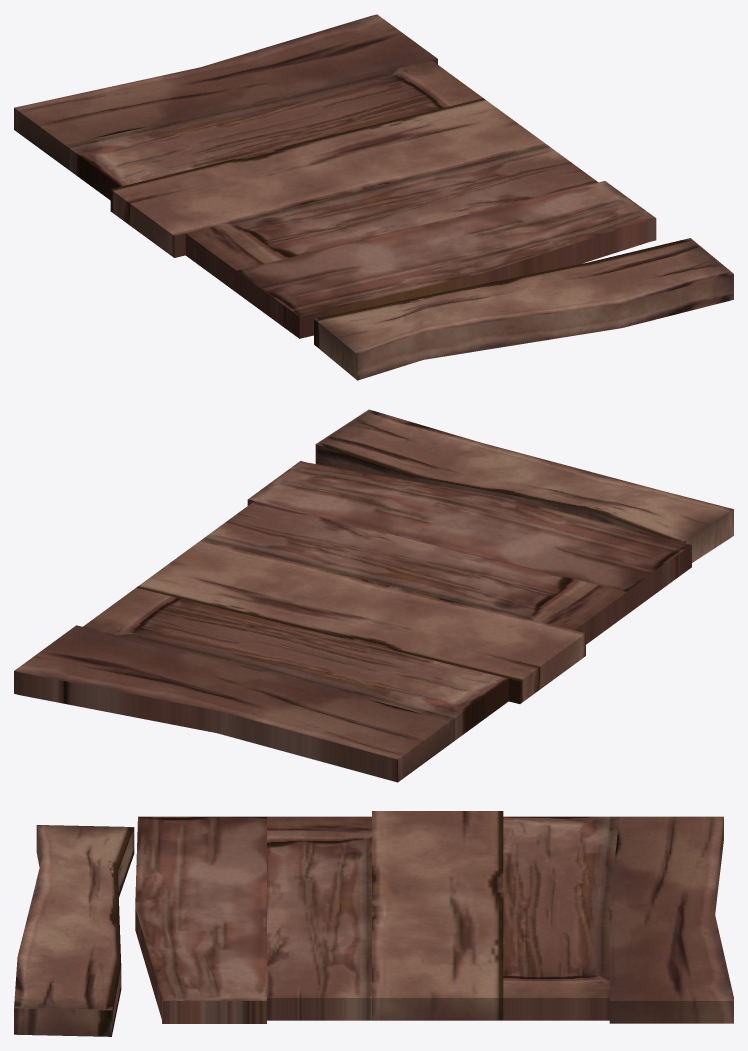
The model's file is ripasPassarela.fbx.
3 renders of one model, top to bottom at view 1: azimuth 30°, elevation 25°; view 2: azimuth 150°, elevation 25°; view 3: azimuth 270°, elevation 25°, orthographic. The views are drawn at different scales.
Parts seen in each view (by area): view 1: ripasPassarela; view 2: ripasPassarela; view 3: ripasPassarela.
Boxes of the visible parts, x1,y1,x2,y2 form: ripasPassarela: [14, 14, 733, 380]; ripasPassarela: [14, 409, 733, 782]; ripasPassarela: [14, 811, 733, 1036].
Size of the model in its own units: 66.3 by 5.33 by 103.
